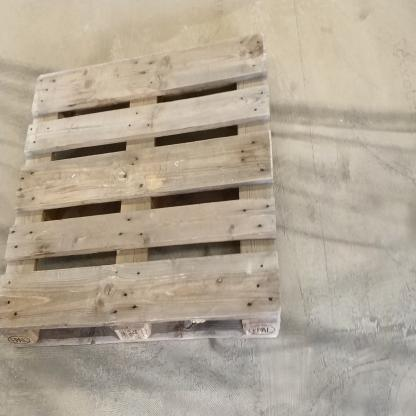BoxFace: (0, 26, 286, 349)
